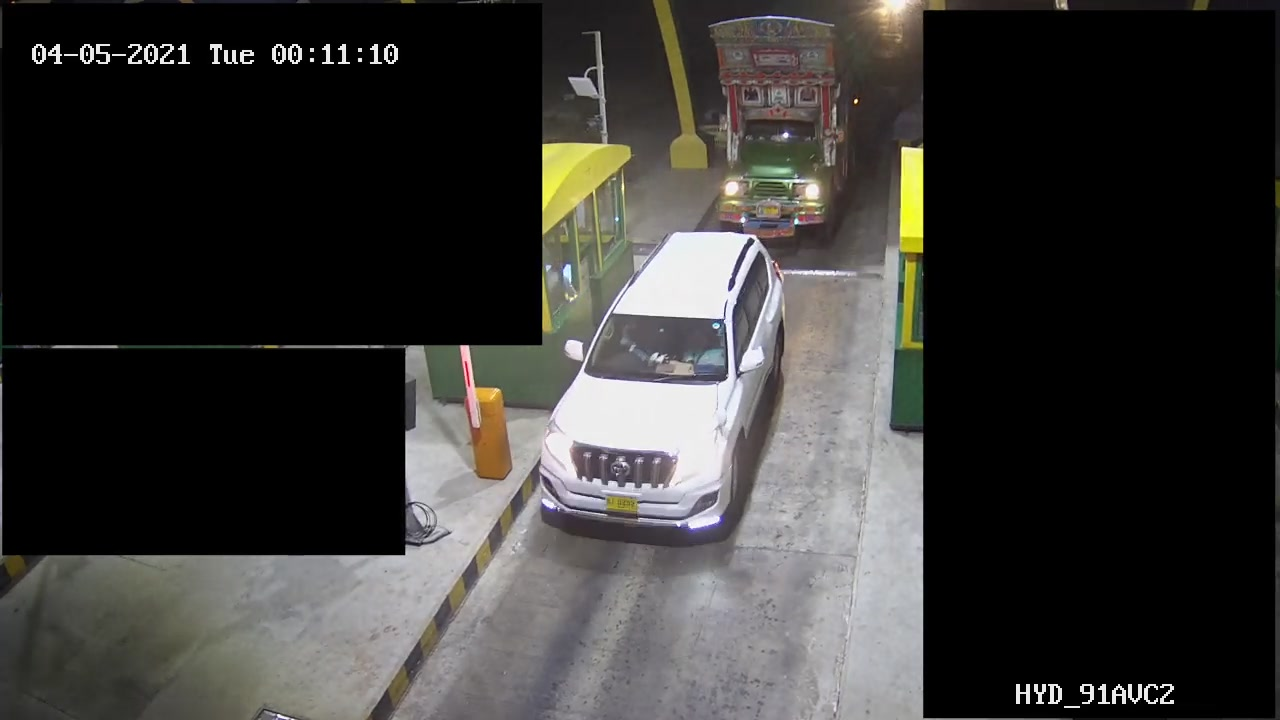F1: (514, 220, 834, 539)
